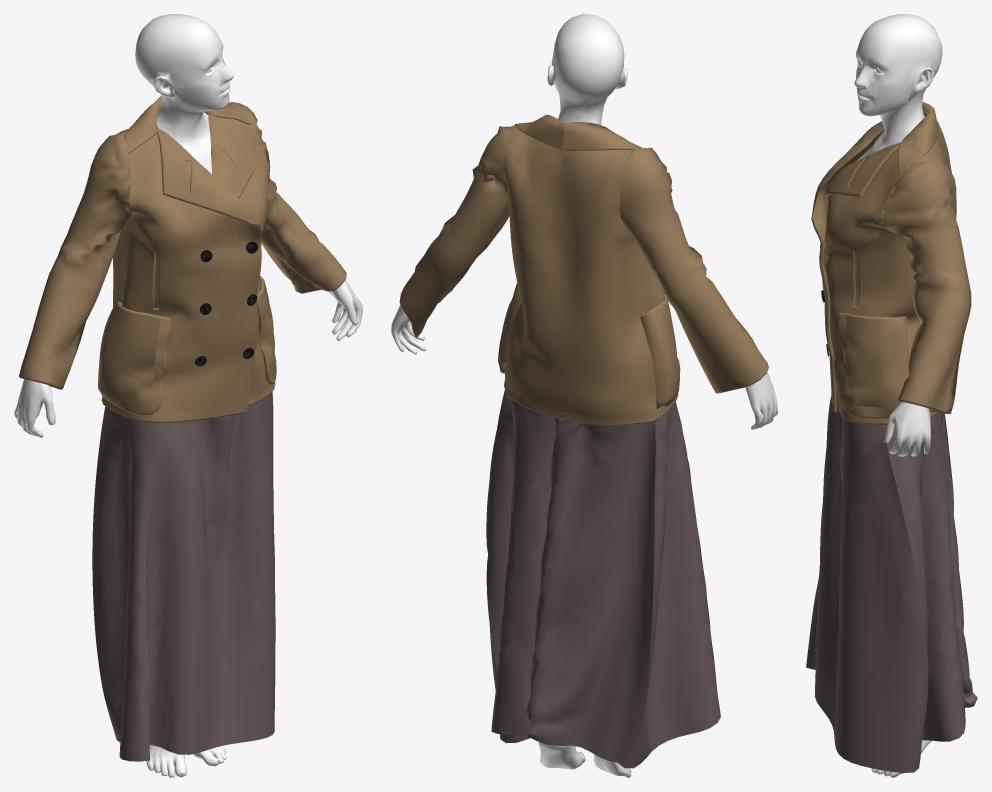
Rendered from martin8.fbx.
The picture shows the model from 3 angles, left to right: view 1: azimuth 30°, elevation 25°; view 2: azimuth 150°, elevation 25°; view 3: azimuth 270°, elevation 25°; orthographic projection. The views are drawn at different scales.
Visible parts, largest first — view 1: Martin8; view 2: Martin8; view 3: Martin8.
Part boxes in pixels (x1,y1,x2,y2): Martin8: [14, 14, 362, 777]; Martin8: [391, 14, 777, 777]; Martin8: [806, 14, 977, 777].
Size of the model in its own units: 97.41 by 196 by 41.26.
